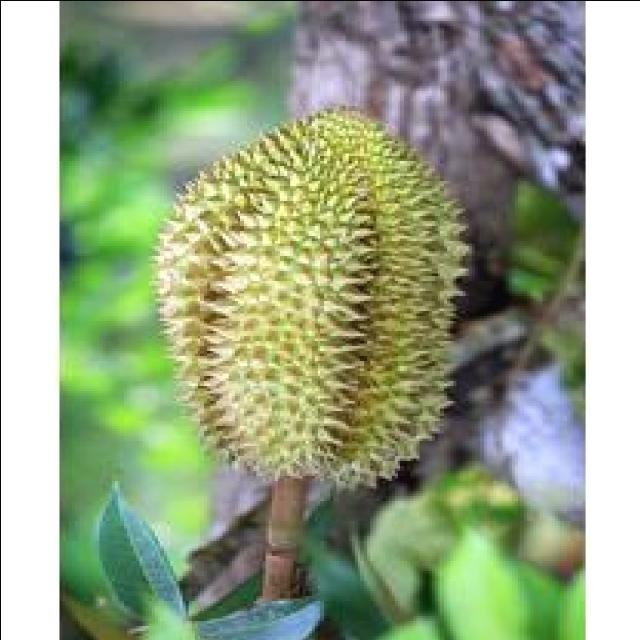agrume: (136, 87, 520, 515)
